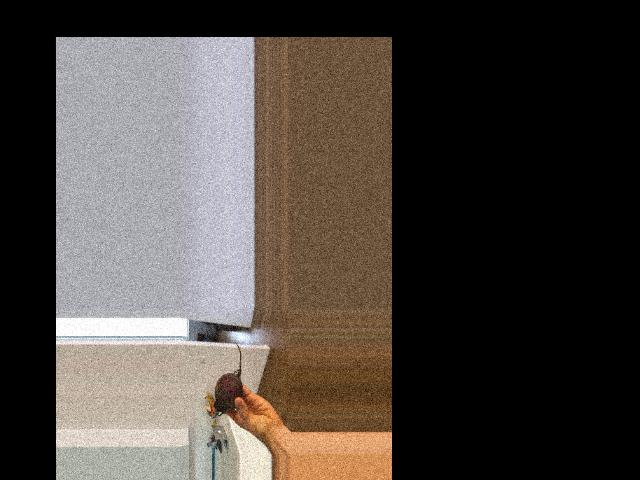beet: (214, 342, 243, 415)
